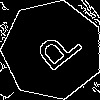P: (27, 25, 85, 80)
